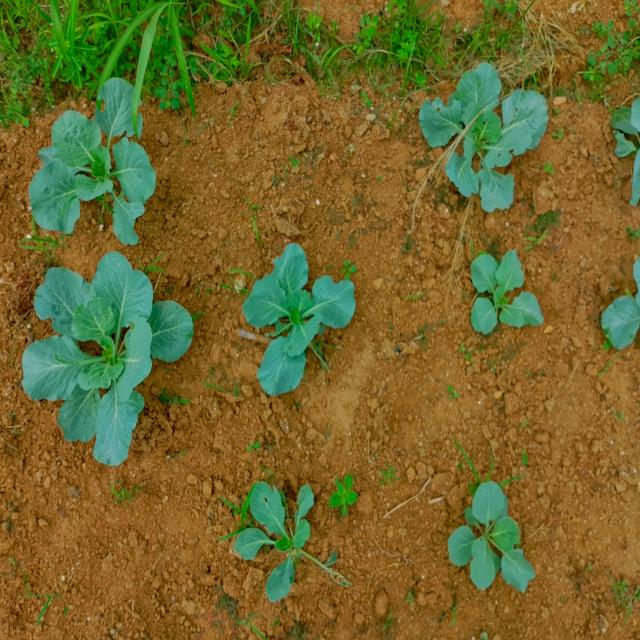Cabbage: (20, 260, 207, 477), (23, 84, 160, 252), (421, 52, 552, 220), (242, 236, 360, 405), (228, 468, 338, 608), (444, 471, 544, 604), (458, 238, 546, 344), (596, 246, 639, 375), (604, 83, 640, 212)
